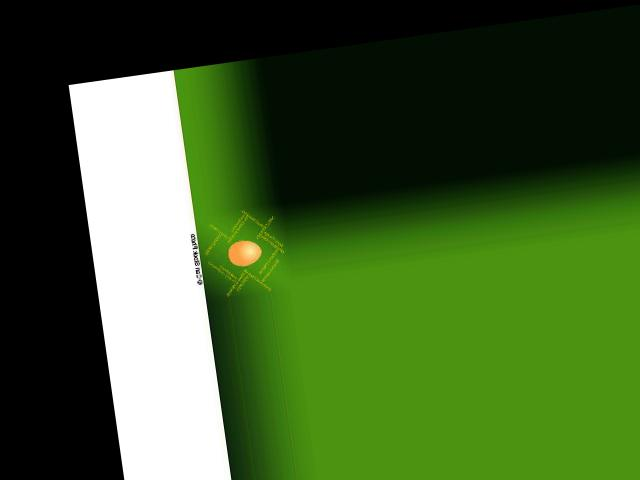egg: (226, 238, 263, 267)
